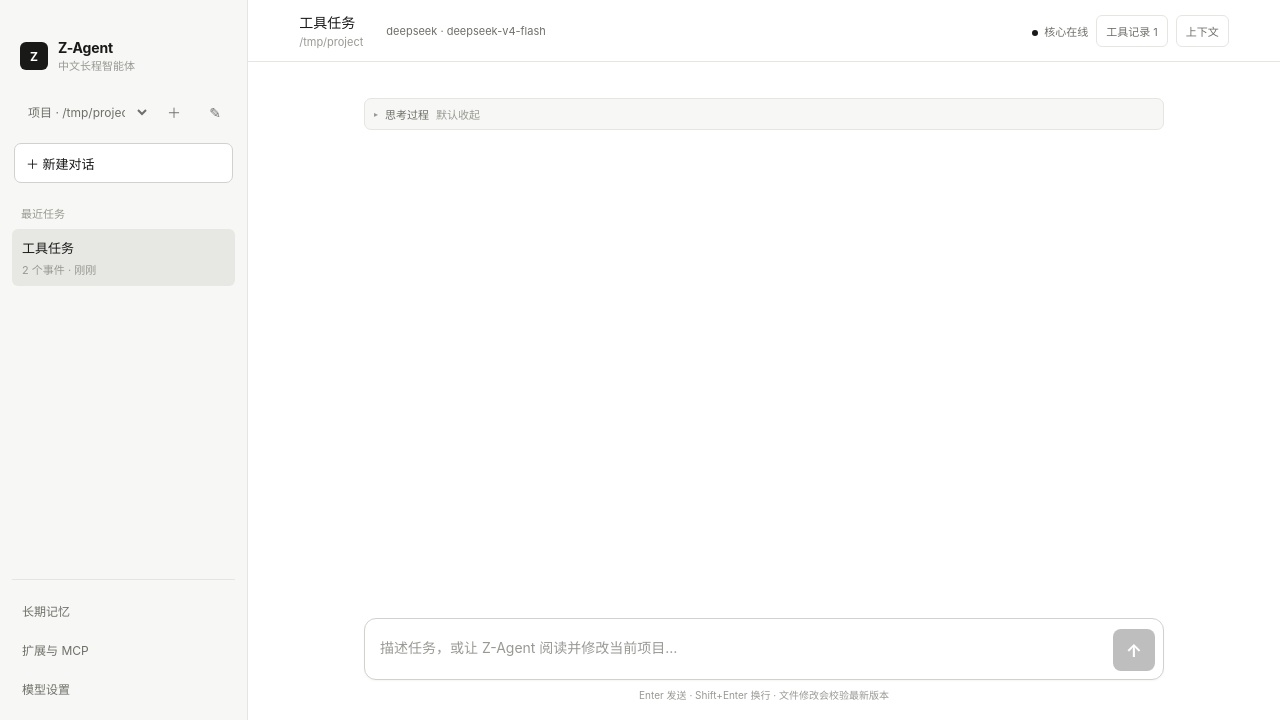
Scenario: Z-Agent desktop UI › keeps model reasoning collapsed until the user explicitly expands it
The width and height of the screenshot is (1280, 720).
Expected: the button with aria-label "显示工具记录" reads "工具记录 1", [1096,14,1168,46]
Expected: the text "README.md" is not shown
What coordinates should you click on to do the following:
click the button "▸ 思考过程 默认收起"
I would click on:
 (407, 115)
Its box is [365,99,1163,129].
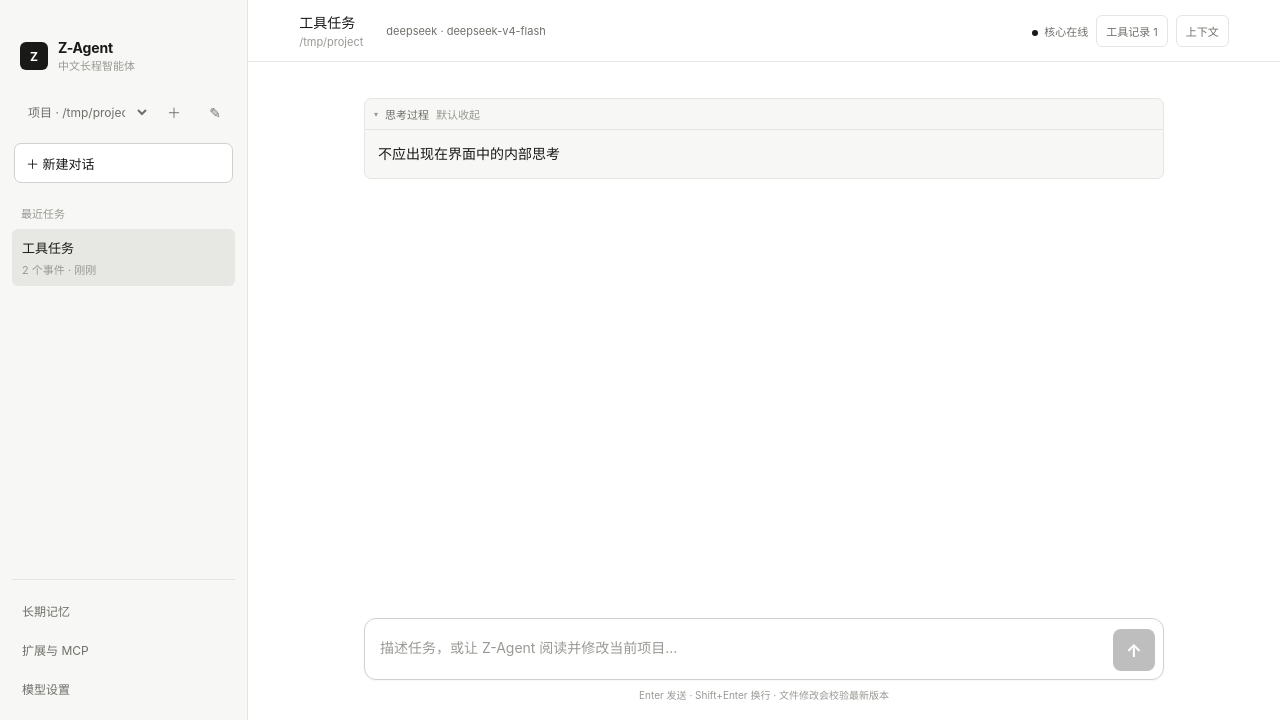
Result: the text "不应出现在界面中的内部思考" is shown at [378,145,560,162]
What coordinates should you click on to do the following:
click the button with aria-label "显示工具记录"
I would click on:
 (1132, 30)
Its box is [1096,14,1168,46].
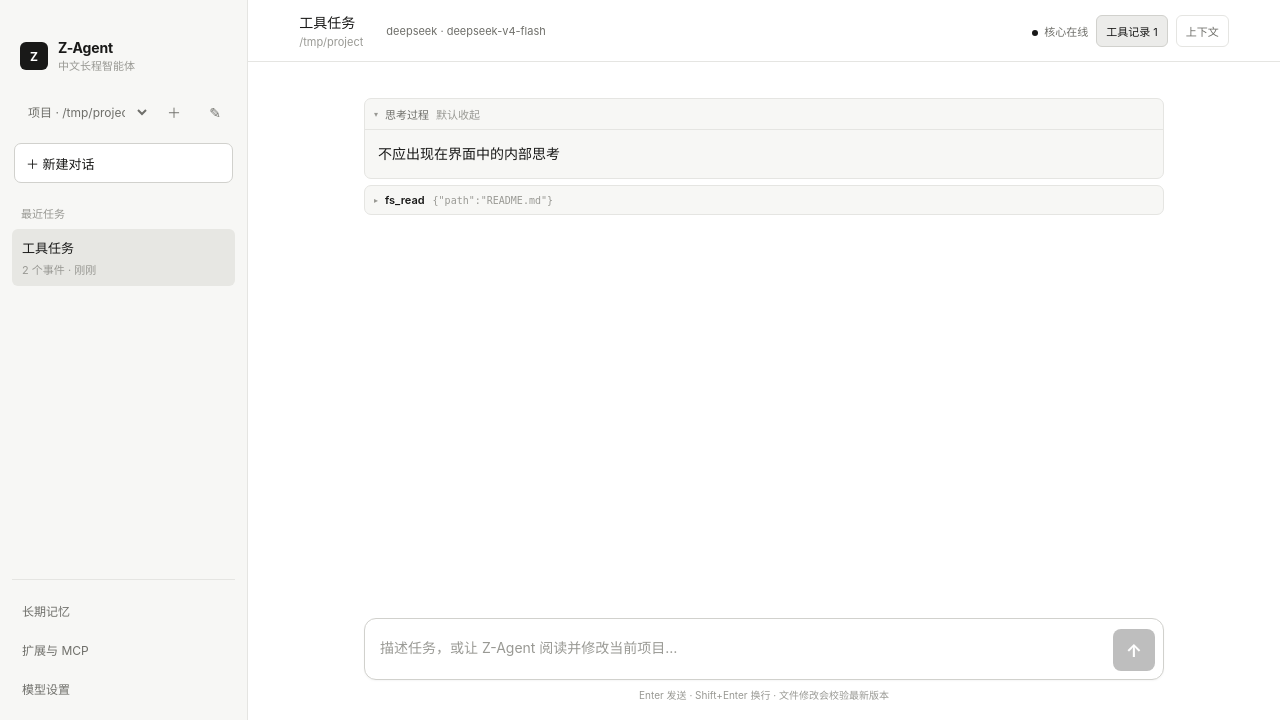
Result: the text "{\"path\":\"README.md\"}" is shown at [433,195,553,206]
